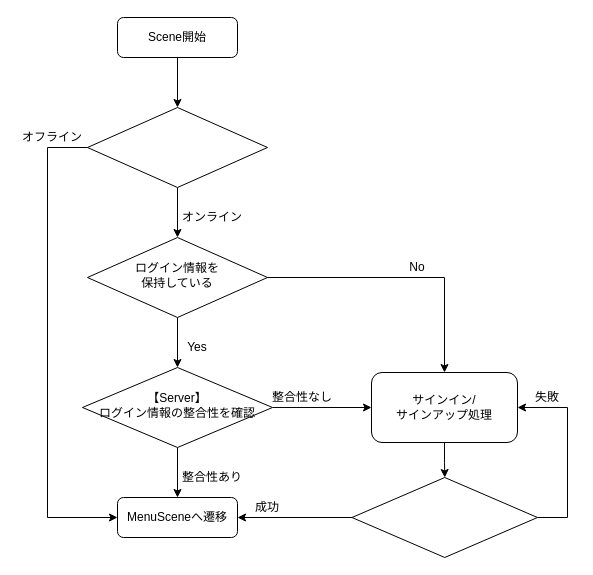
The diagram is 593 pixels wide and 575 high, and some of its shapes have lost their labels. Here are the shapes that lost their labels. From the top down, the centre of each, then its label:
At [177,147]: "オンライン判定".
At [444,517]: "【Server】 ログインの成否判定".
